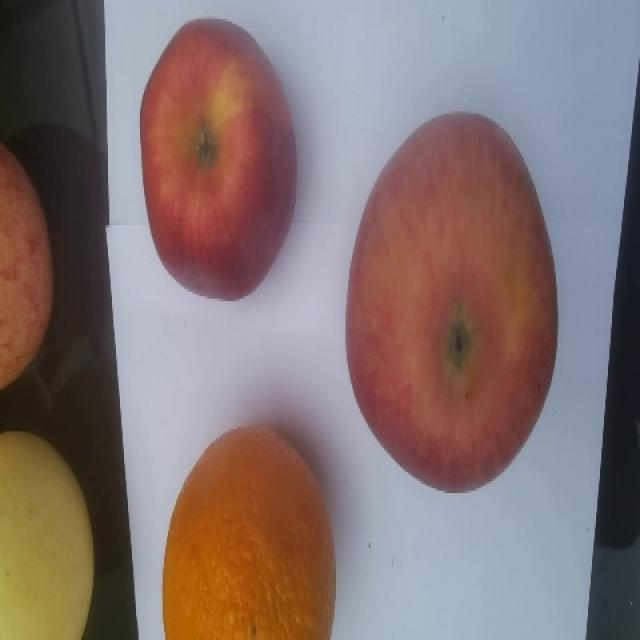Apple: (344, 110, 559, 493), (139, 16, 297, 301), (0, 139, 54, 391)
Orange: (161, 424, 336, 639)
